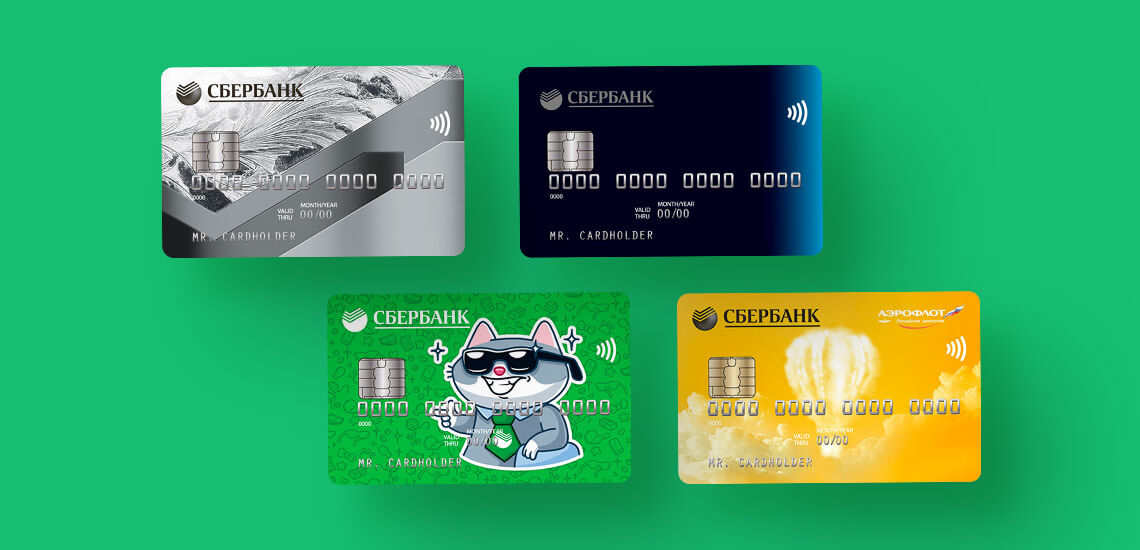card: (673, 290, 983, 484), (325, 290, 633, 485), (160, 64, 466, 260), (518, 65, 824, 258)
